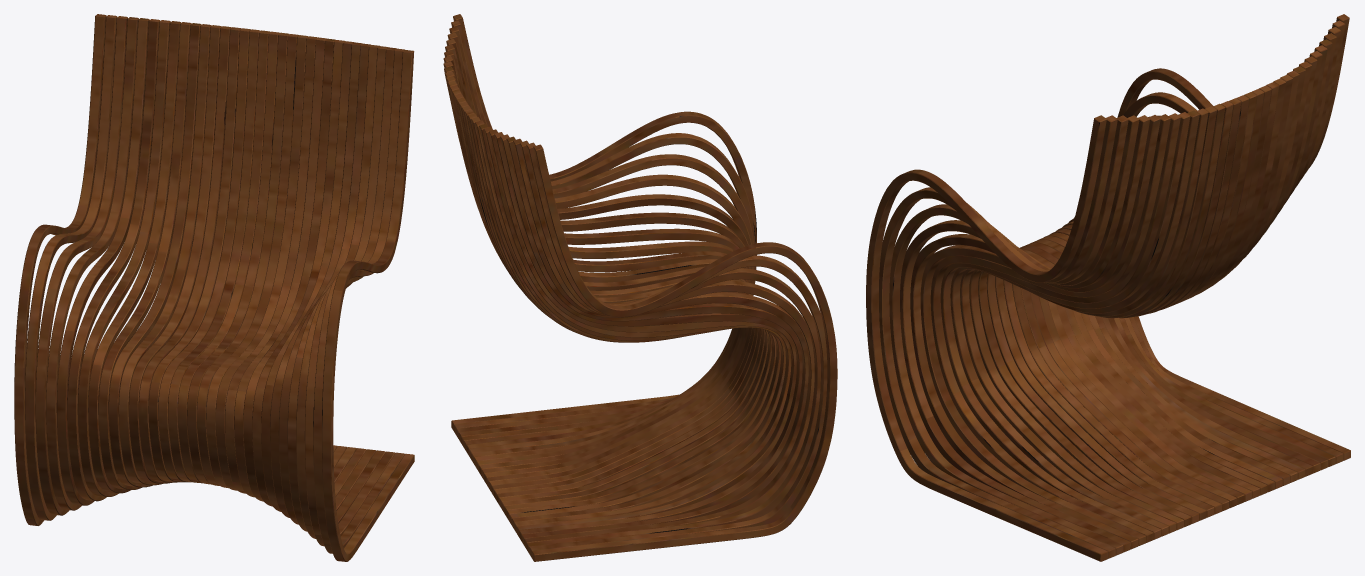
The model's file is pipo_chair.full.glb.
3 views of the same model, side by side, from view 1: azimuth 30°, elevation 25°; view 2: azimuth 150°, elevation 25°; view 3: azimuth 270°, elevation 25° (orthographic). The views are drawn at different scales.
Visible parts, largest first — view 1: Object_4; view 2: Object_4; view 3: Object_4.
Boxes of the visible parts, bbox=[...] form: Object_4: bbox=[14, 14, 414, 561]; Object_4: bbox=[443, 14, 837, 561]; Object_4: bbox=[866, 14, 1350, 561].
Bounding box in the file's own units: 77.35 × 77.73 × 77.38.
Materials: 1 (1 with a texture image).
